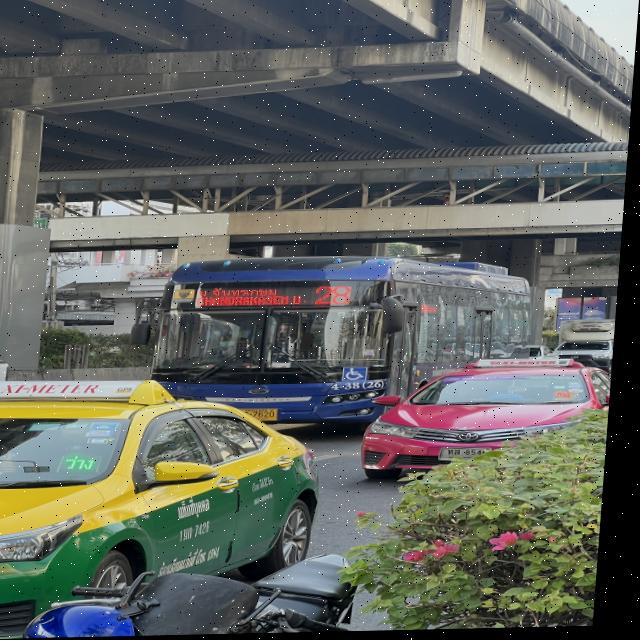Bus-Line-Number: (315, 283, 361, 308)
Destination-Sign-Normal: (198, 285, 315, 310)
TSB-Bus: (157, 256, 539, 426)
